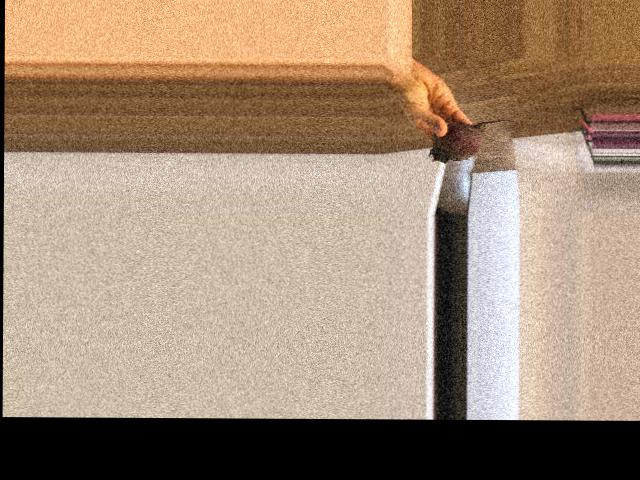beet: (430, 119, 523, 163)
